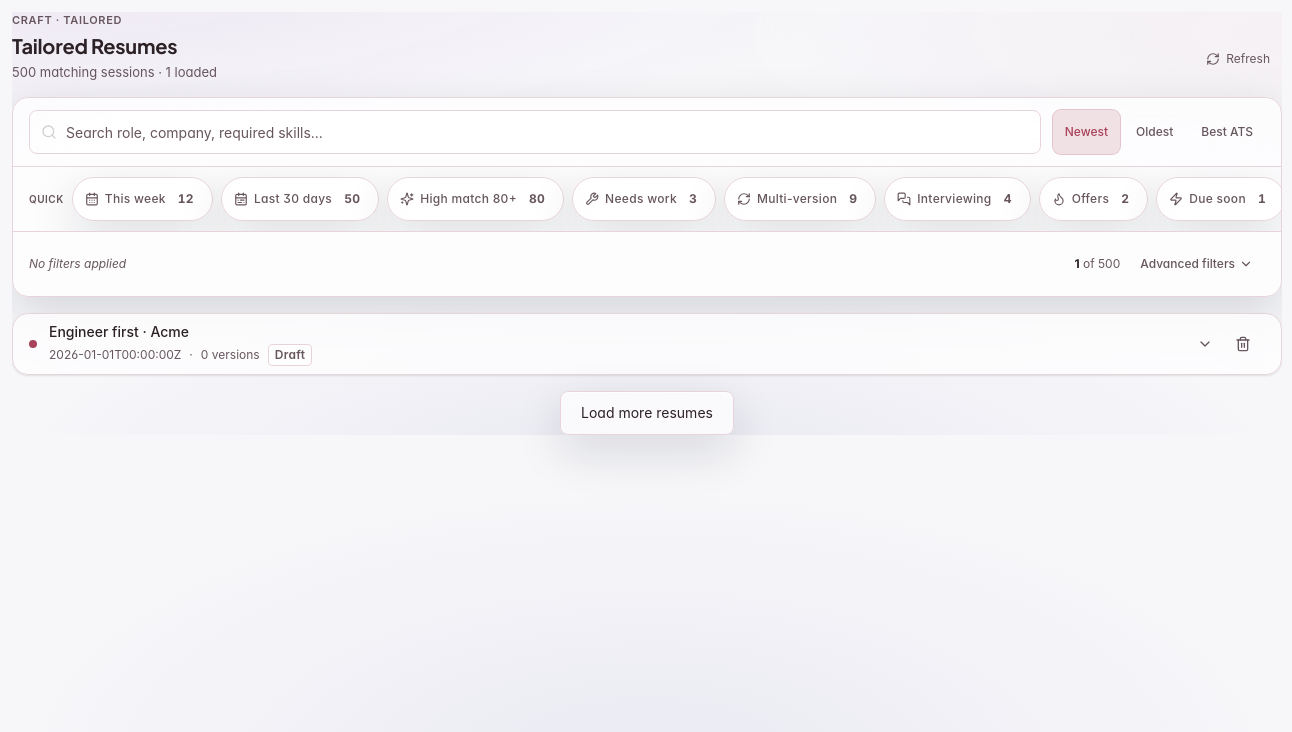
Test: on-demand tailored history › searches remotely, replaces loaded pages and retains filters on zero matches
This screenshot has width=1292, height=732.
Expected: the text "Engineer first · Acme" is shown, [49, 323, 189, 340]
In the field named "Search tailored resumes": (535,132) [29, 110, 1041, 154], type "Rust"
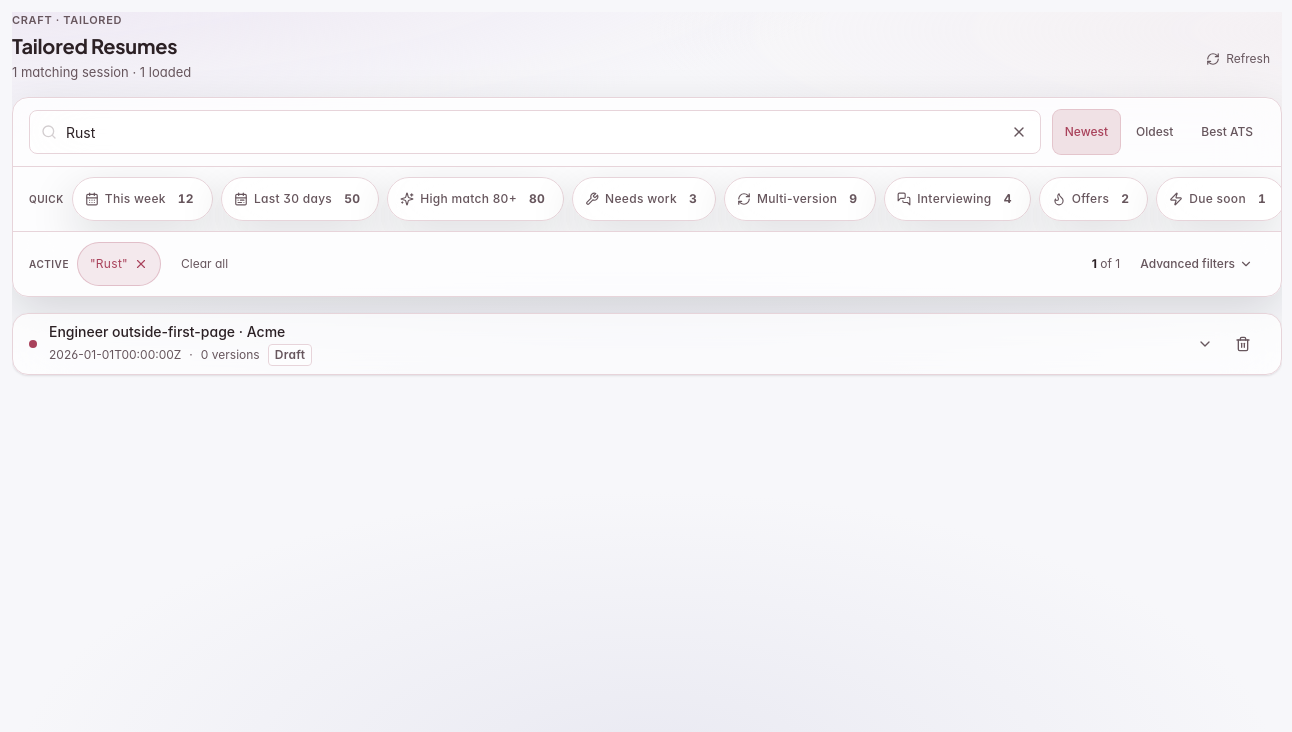
Expected: the text "Engineer outside-first-page · Acme" is shown, [49, 323, 285, 340]
Expected: the button "Engineer first · Acme" is gone
Replace the text in the field named "Search tailored resumes" with "missing": (535,132) [29, 110, 1041, 154]
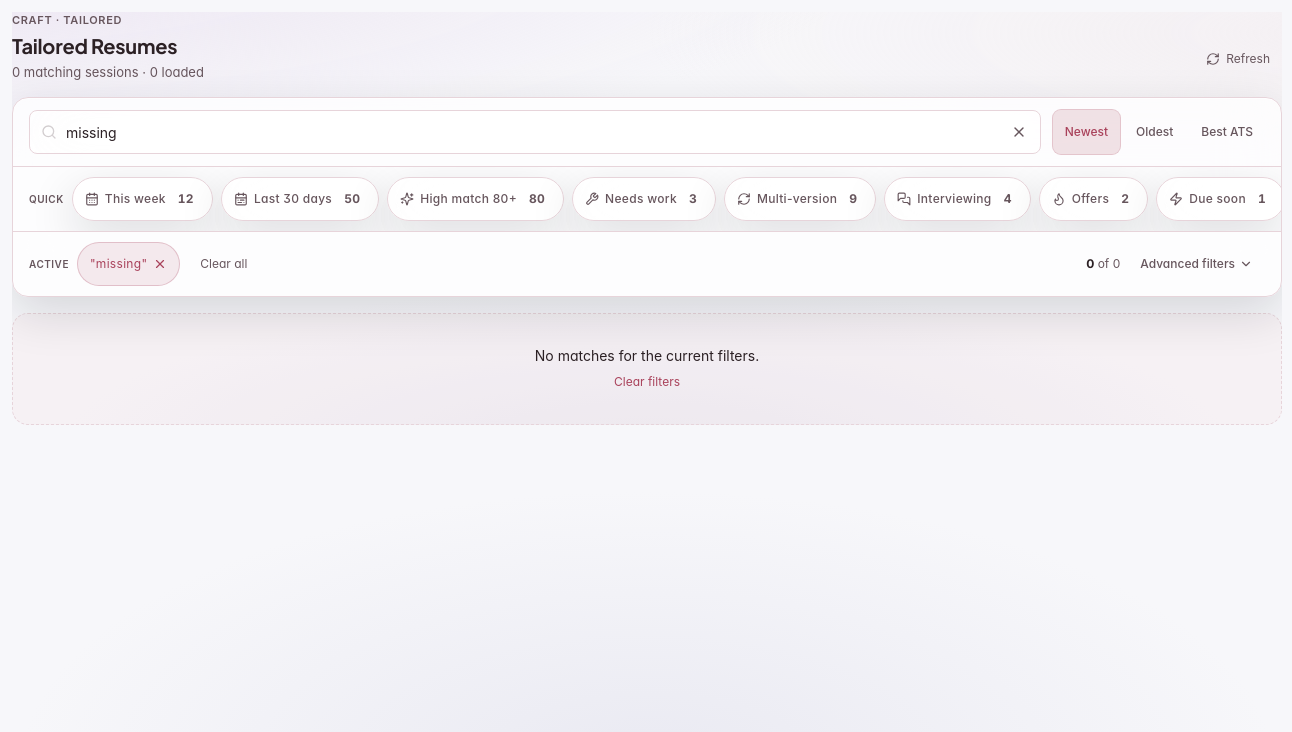
Expected: the text "No matches for the current filters." is shown, [535, 347, 759, 364]
